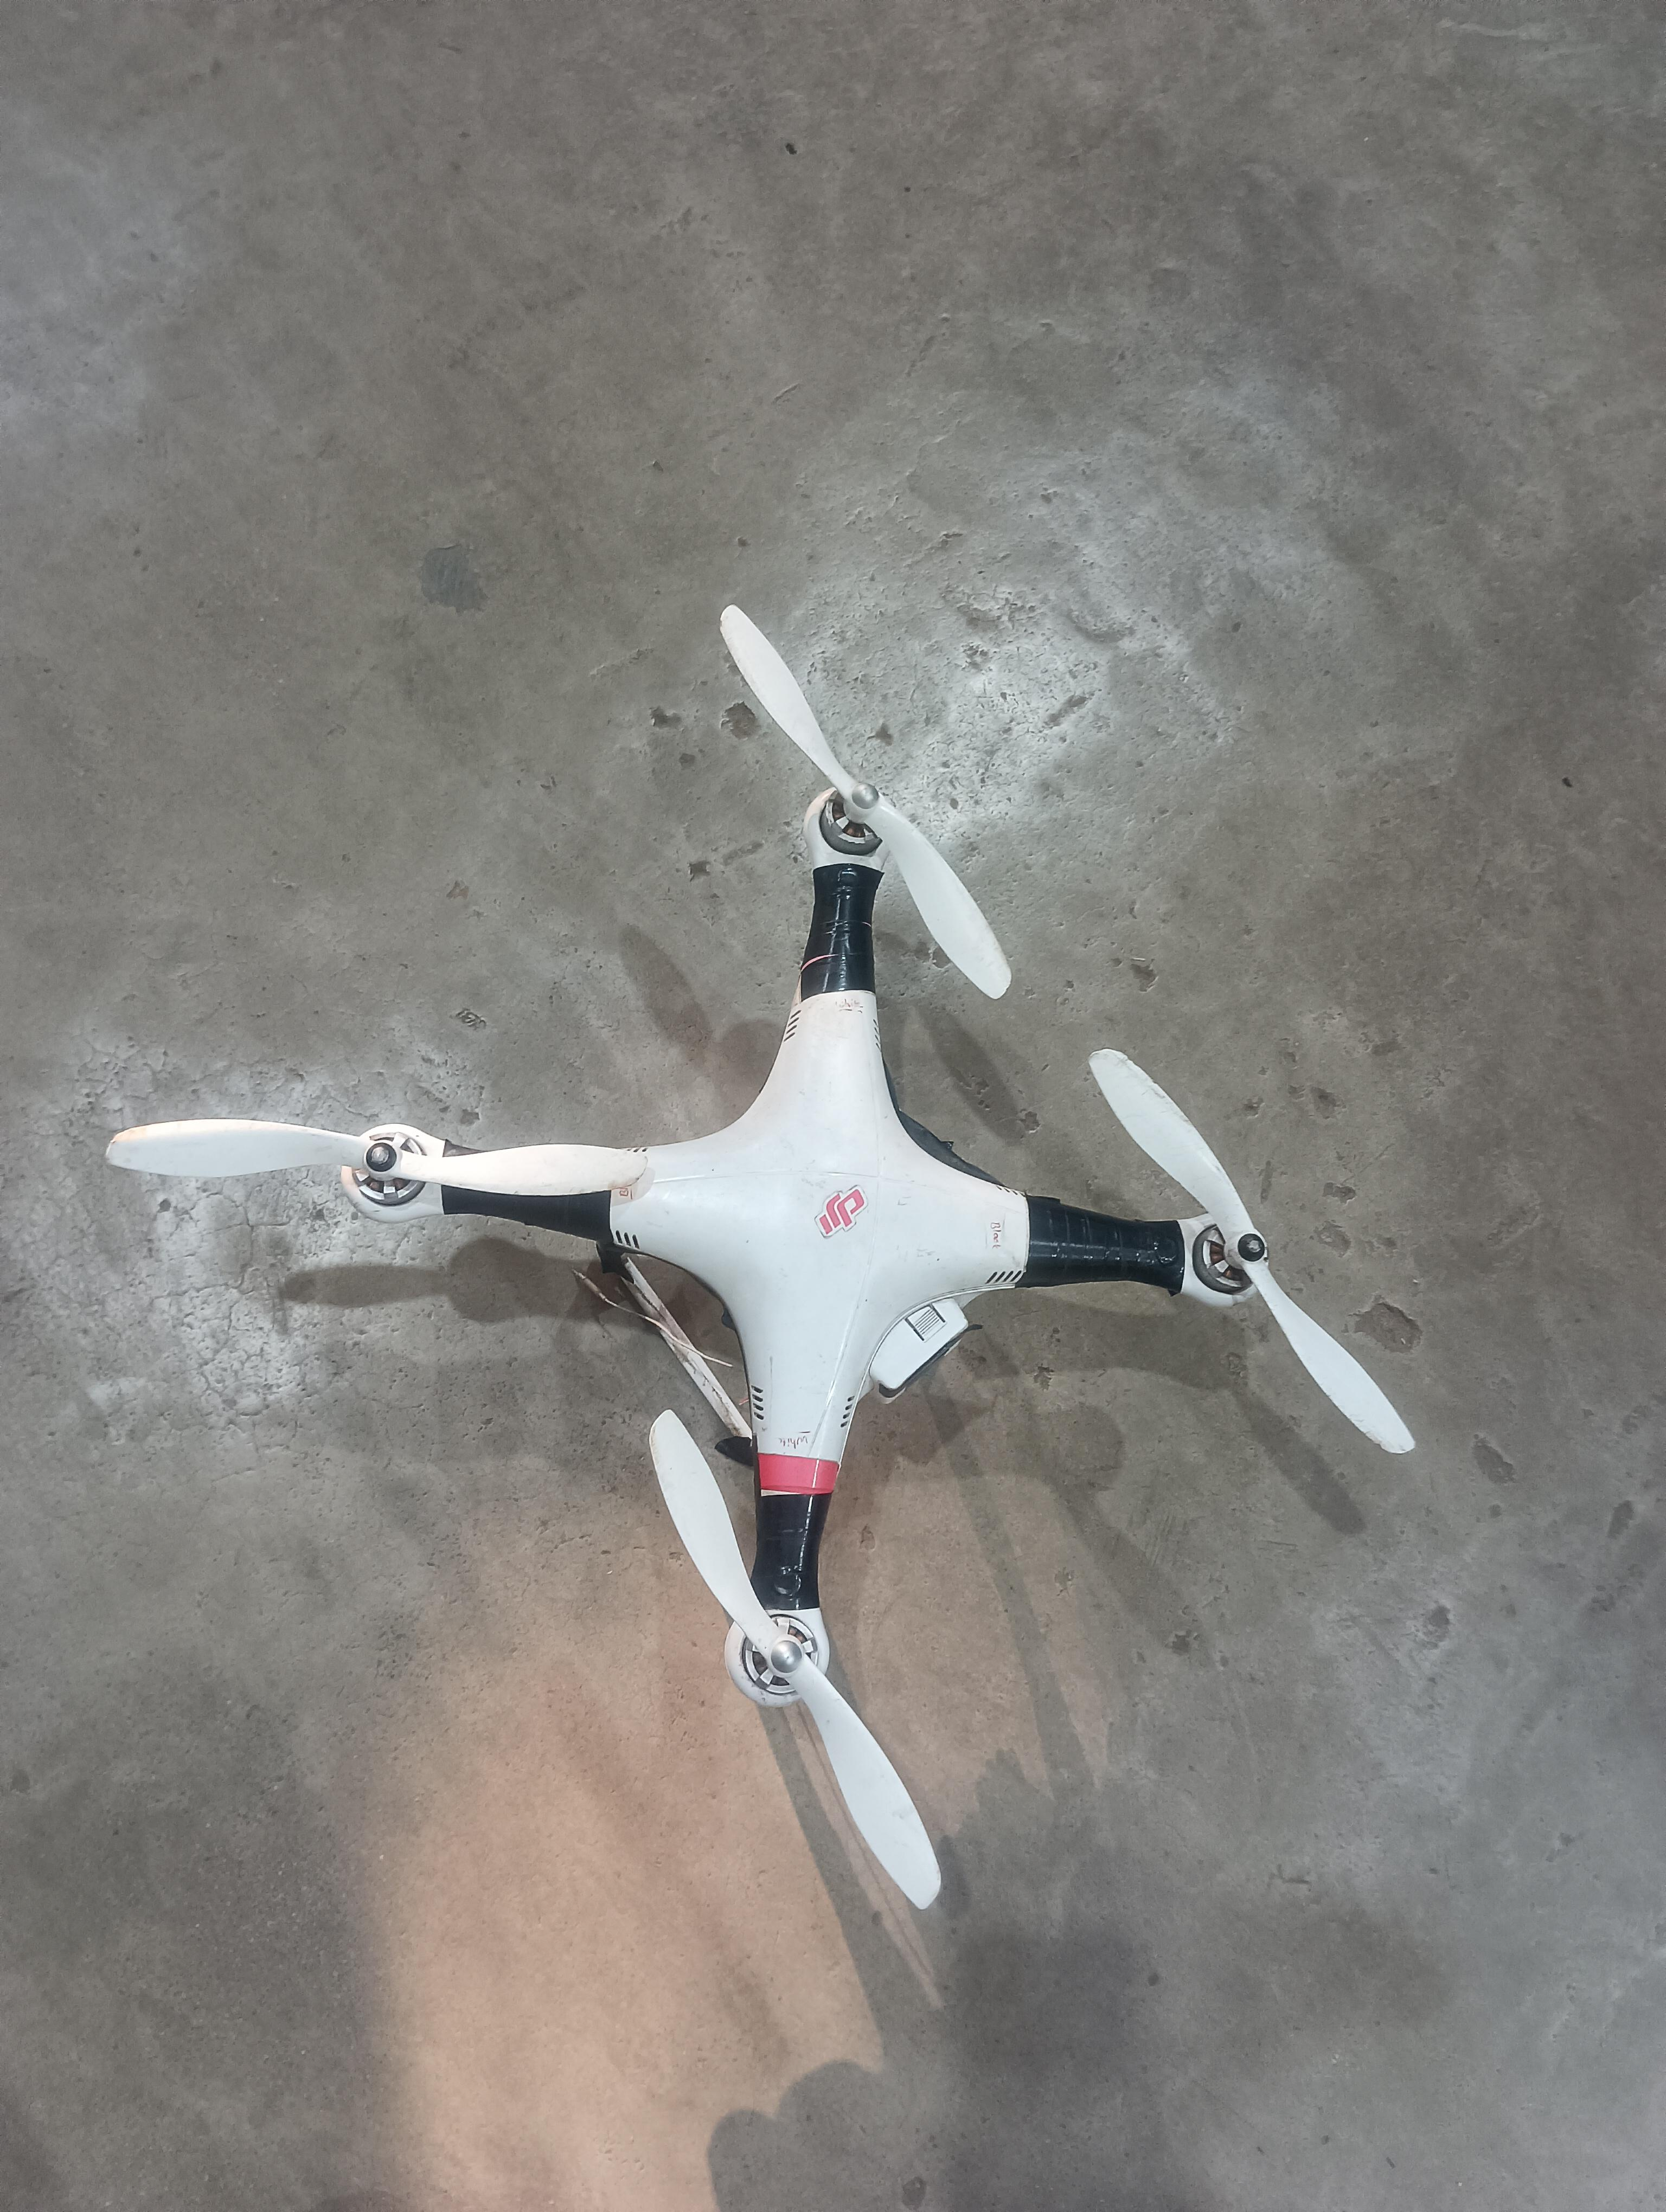drone: (121, 554, 1454, 1920)
